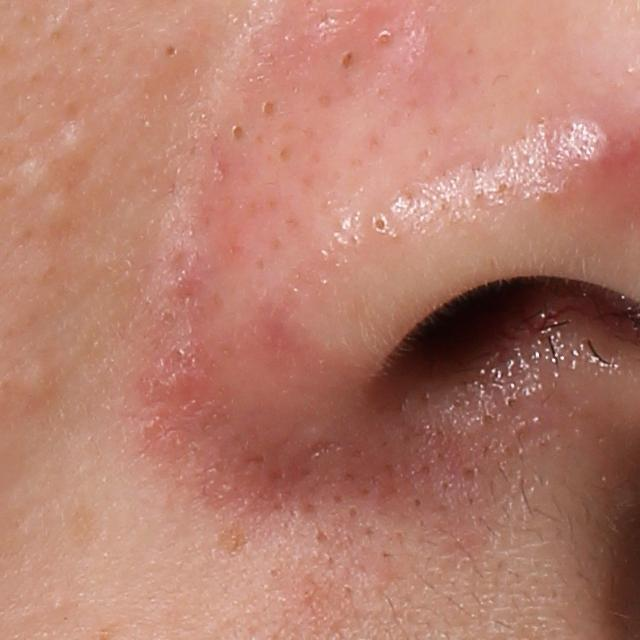comedo: (18, 349, 71, 404), (52, 118, 89, 164), (368, 19, 399, 54), (332, 42, 361, 77), (154, 41, 190, 69), (364, 207, 394, 240), (225, 116, 252, 147), (255, 96, 282, 123), (264, 563, 281, 581)
